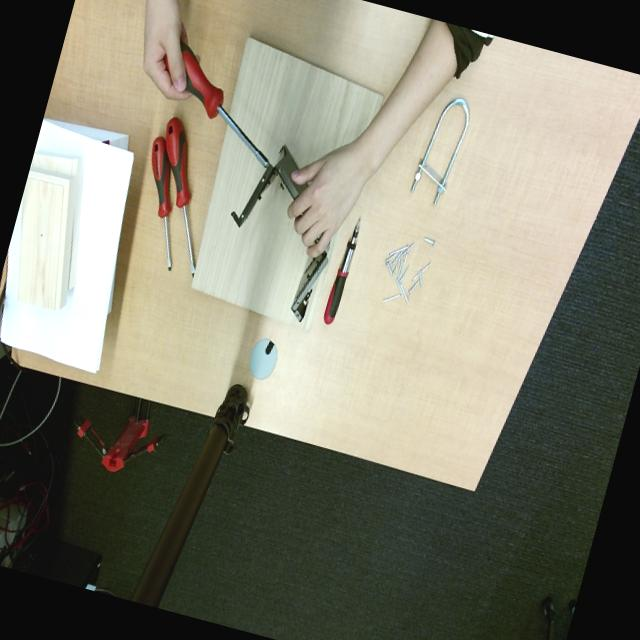screwdriver: (180, 42, 270, 168), (165, 117, 195, 274), (323, 220, 359, 325), (151, 136, 171, 270)
